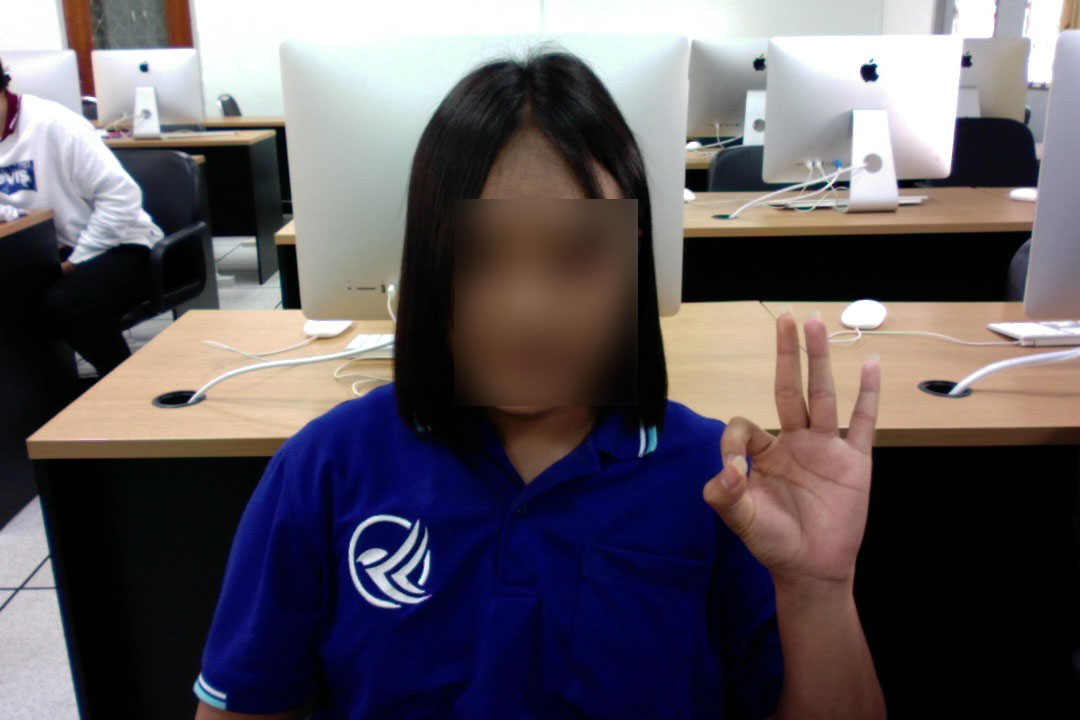for: (695, 307, 890, 593)
